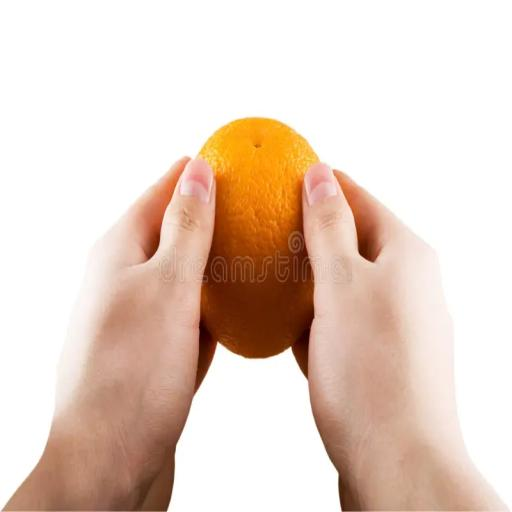orange: (198, 118, 318, 357)
